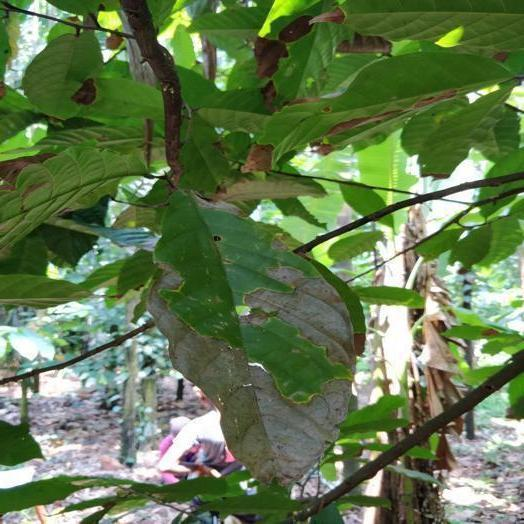Potassium: (148, 190, 354, 483)
